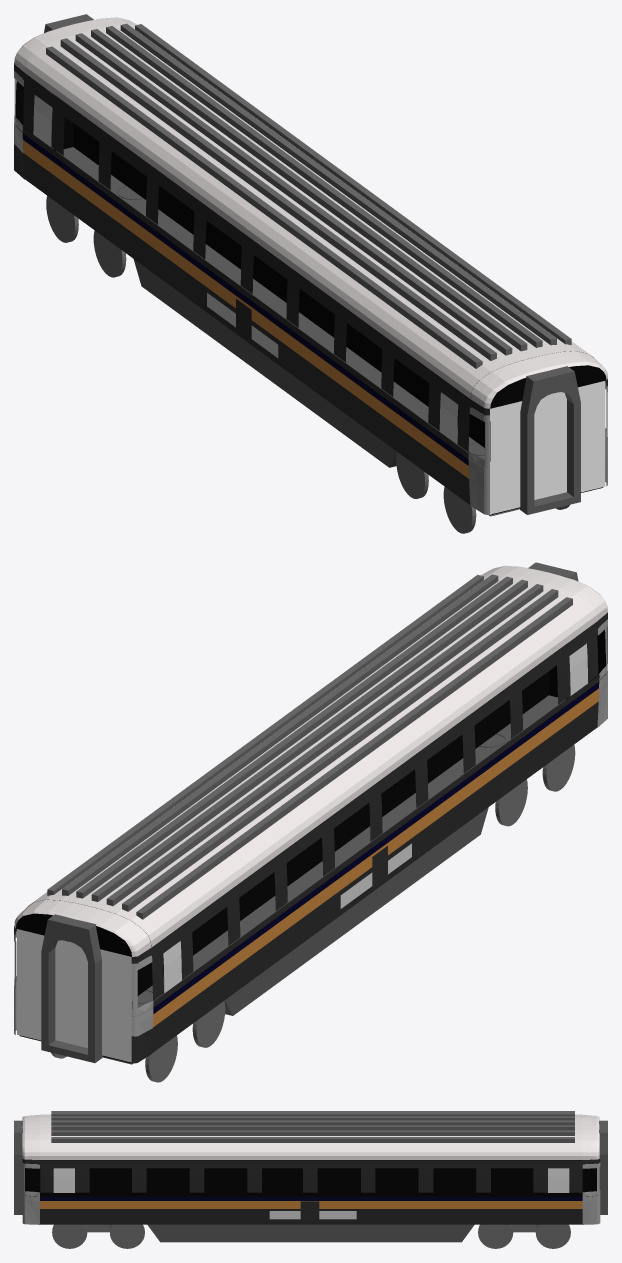
The picture shows the model from 3 angles, top to bottom: view 1: azimuth 30°, elevation 25°; view 2: azimuth 150°, elevation 25°; view 3: azimuth 270°, elevation 25°; orthographic projection. The views are drawn at different scales.
Parts seen in each view (by area): view 1: Suzanne_001, Plane_007, Plane_001, Plane_111, Cube_010, Cube, Cube_011, Cube_008, Cube_009, Cube_004, Plane_002, Cube_002 (+16 smaller); view 2: Suzanne_001, Plane_007, Plane_100, Plane_111, Cube, Cube_010, Cube_011, Cube_008, Cube_009, Cube_004, Plane_002, Cube_002 (+15 smaller); view 3: Plane_111, Plane_134, Suzanne_001, Cube, Cube_002, Cube_003, Cube_004, Cube_008, Plane_135, Plane_136, Cube_009, Cube_010 (+29 smaller).
Part boxes in pixels (x1,y1,x2,y2): Suzanne_001: (24, 24, 593, 398); Plane_007: (23, 140, 470, 504); Plane_001: (490, 381, 605, 514); Plane_111: (73, 109, 484, 447); Cube_010: (60, 38, 496, 360); Cube: (133, 259, 396, 467); Cube_011: (46, 46, 482, 368); Cube_008: (91, 29, 527, 351); Cube_009: (75, 33, 512, 355); Cube_004: (106, 26, 542, 347); Plane_002: (56, 147, 489, 468); Cube_002: (120, 23, 556, 345); Suzanne_001: (28, 573, 596, 947); Plane_007: (151, 688, 598, 1053); Plane_100: (17, 929, 132, 1062); Plane_111: (135, 657, 548, 995); Cube: (224, 807, 488, 1015); Cube_010: (122, 589, 558, 911); Cube_011: (136, 597, 572, 919); Cube_008: (91, 579, 527, 901); Cube_009: (106, 584, 543, 906); Cube_004: (76, 576, 512, 898); Plane_002: (133, 695, 565, 1016); Cube_002: (62, 574, 498, 895); Plane_111: (25, 1159, 596, 1196); Plane_134: (40, 1201, 582, 1224); Suzanne_001: (40, 1114, 582, 1159); Cube: (147, 1224, 474, 1242); Cube_002: (51, 1130, 574, 1135); Cube_003: (51, 1137, 574, 1142); Cube_004: (51, 1125, 574, 1130); Cube_008: (51, 1120, 574, 1125); Plane_135: (40, 1160, 582, 1164); Plane_136: (40, 1164, 582, 1168); Cube_009: (51, 1116, 574, 1120); Cube_010: (51, 1112, 574, 1116).
Bounding box in the file's own units: 2.14 × 13.39 × 2.81.
